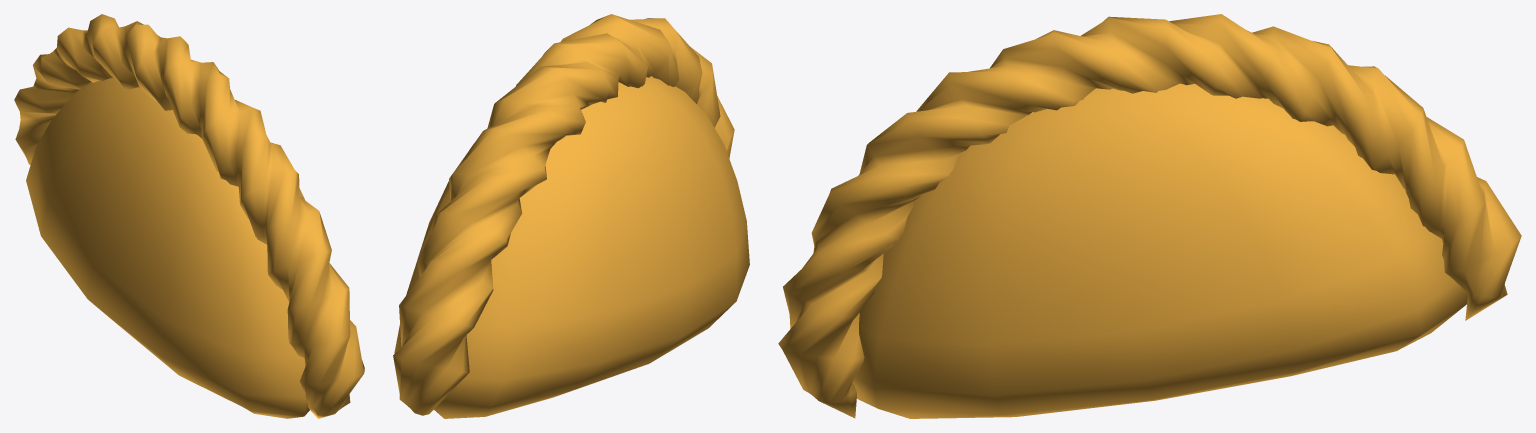
File: Empanada.fbx
The picture shows the model from 3 angles, left to right: view 1: azimuth 30°, elevation 25°; view 2: azimuth 150°, elevation 25°; view 3: azimuth 270°, elevation 25°; orthographic projection. The views are drawn at different scales.
Parts seen in each view (by area): view 1: Empanada.001; view 2: Empanada.001; view 3: Empanada.001.
Boxes of the visible parts, x1,y1,x2,y2 form: Empanada.001: (14,14,364,418); Empanada.001: (393,14,749,418); Empanada.001: (778,14,1521,418).
Bounding box in the file's own units: 64.48 × 97.63 × 172.
